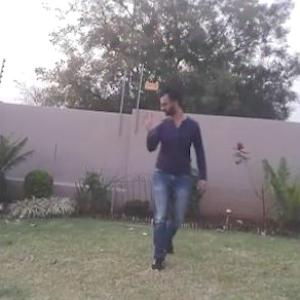follow_hand: (139, 108, 155, 133)
